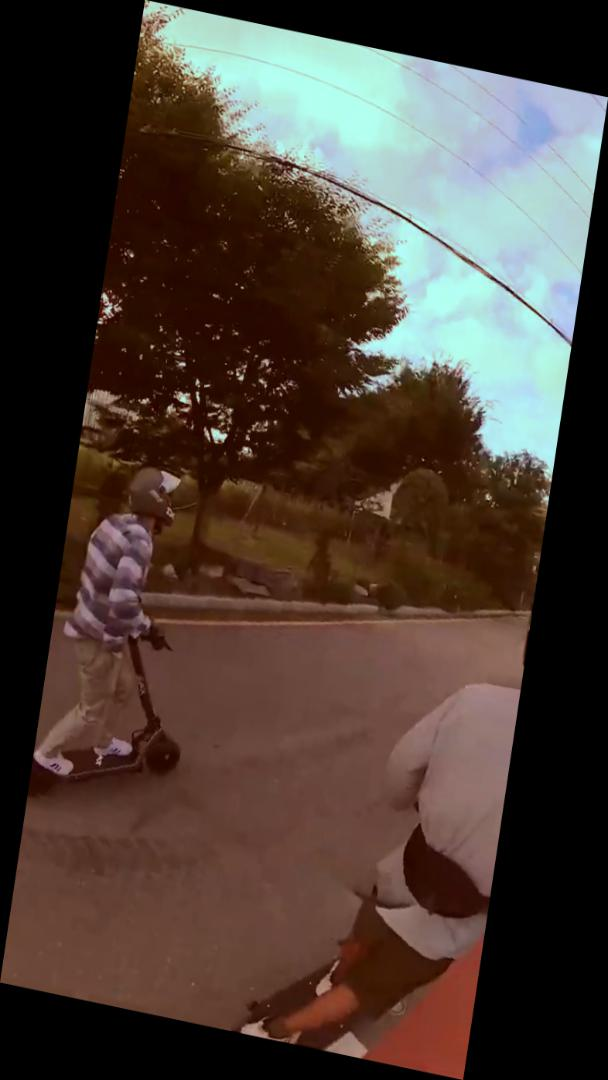helmet: (29, 450, 225, 823)
